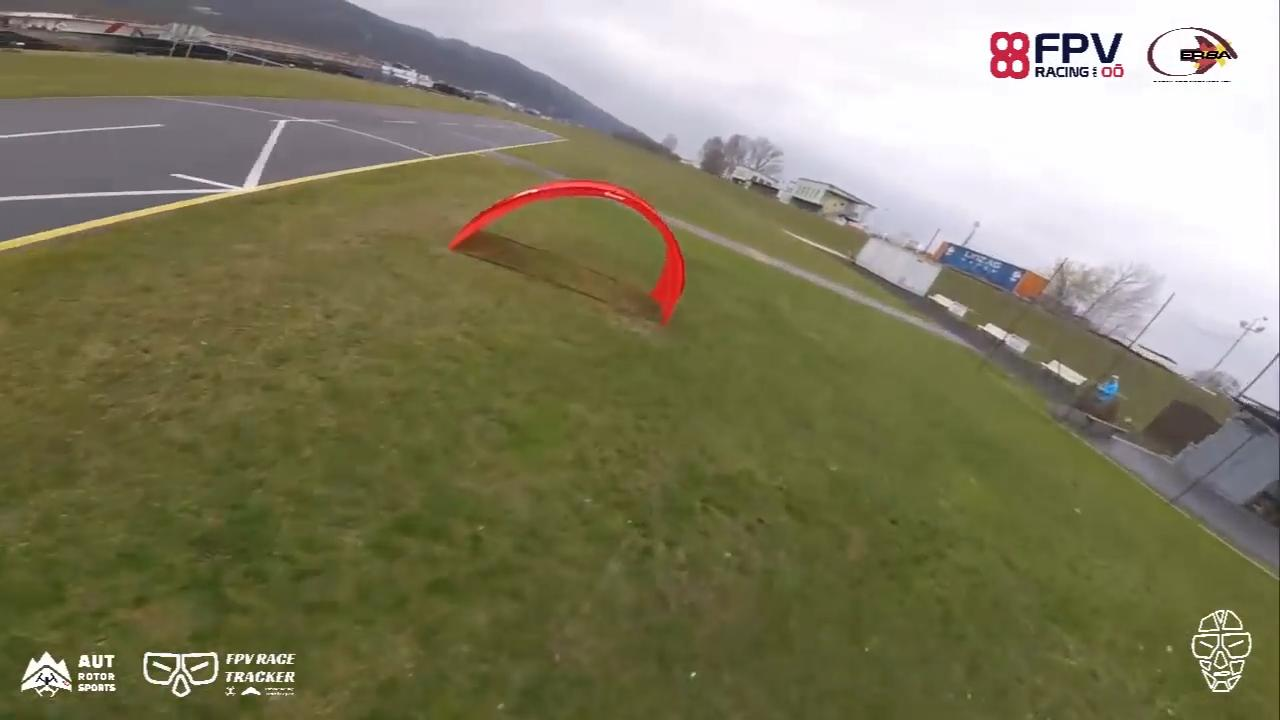gate: (452, 179, 686, 332)
